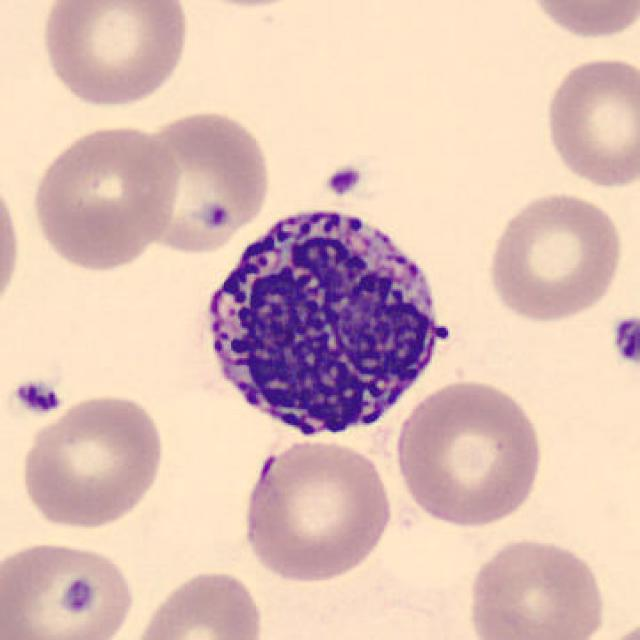Basophil: (188, 193, 462, 452)
Platelets: (48, 567, 104, 623), (11, 377, 64, 418), (606, 312, 640, 370), (322, 160, 366, 200), (192, 197, 232, 236)
RBC: (391, 375, 548, 529), (236, 434, 396, 585), (27, 120, 183, 273), (130, 104, 276, 257), (14, 390, 169, 530), (482, 187, 628, 324), (35, 0, 194, 111), (462, 532, 610, 640), (0, 536, 140, 640), (540, 51, 638, 191), (126, 564, 268, 640), (520, 0, 638, 42), (0, 168, 25, 322), (165, 0, 323, 12), (588, 613, 639, 640)
